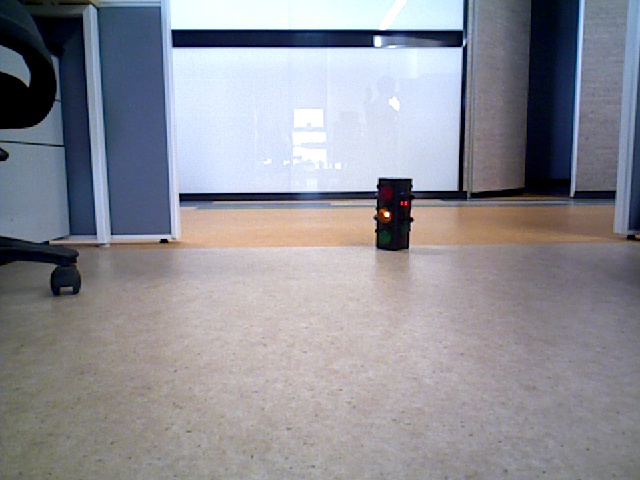yellow: (378, 181, 409, 248)
